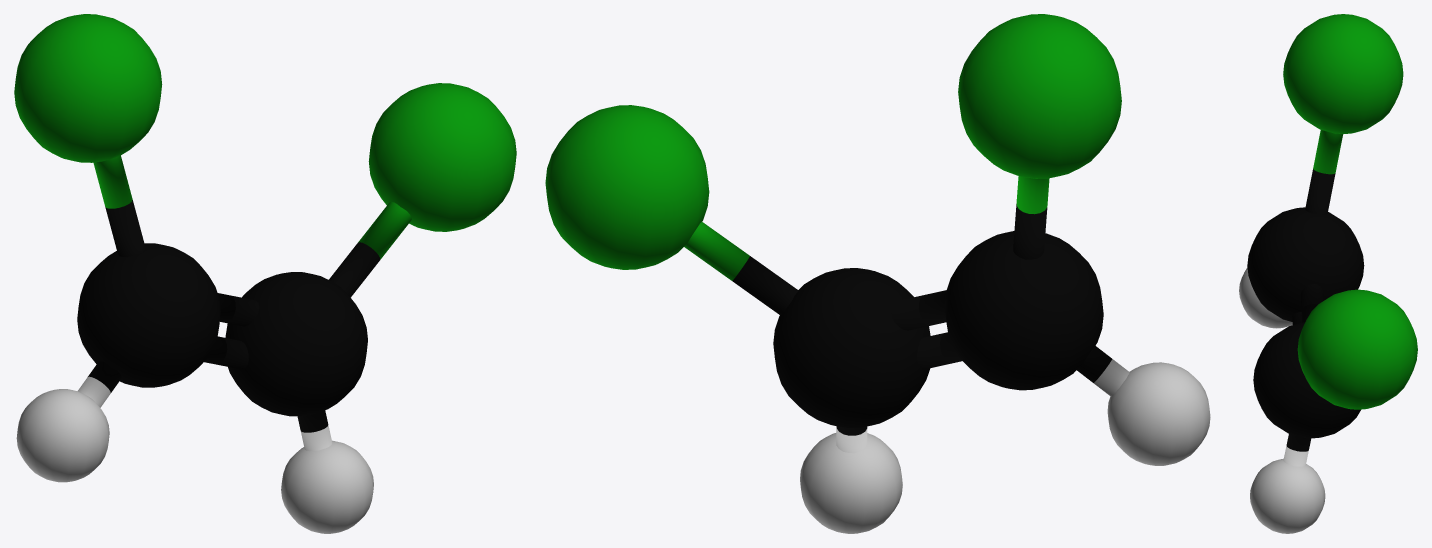
The model's file is asset.glb.
3 renders of one model, left to right at view 1: azimuth 30°, elevation 25°; view 2: azimuth 150°, elevation 25°; view 3: azimuth 270°, elevation 25°, orthographic. The views are drawn at different scales.
Parts seen in each view (by area): view 1: Shape_Sphere, Shape_Sphere.001, Shape_Sphere.002, Shape_Sphere.003, Shape_Sphere.004, Shape_Sphere.005, Shape_Cylinder.002, Shape_Cylinder.001, Shape_Cylinder.003, Shape_Cylinder, Shape_Cylinder.006, Shape_Cylinder.007; view 2: Shape_Sphere, Shape_Sphere.001, Shape_Sphere.002, Shape_Sphere.003, Shape_Sphere.004, Shape_Sphere.005, Shape_Cylinder.002, Shape_Cylinder.003, Shape_Cylinder.001, Shape_Cylinder, Shape_Cylinder.007, Shape_Cylinder.006 (+1 smaller); view 3: Shape_Sphere, Shape_Sphere.001, Shape_Sphere.002, Shape_Sphere.003, Shape_Sphere.005, Shape_Sphere.004, Shape_Cylinder.001, Shape_Cylinder, Shape_Cylinder.005, Shape_Cylinder.011, Shape_Cylinder.010.
Boxes of the visible parts, x1,y1,x2,y2 form: Shape_Sphere: (14,14,162,162); Shape_Sphere.001: (368,83,516,231); Shape_Sphere.002: (77,243,220,387); Shape_Sphere.003: (225,272,367,416); Shape_Sphere.004: (16,389,109,482); Shape_Sphere.005: (281,440,373,533); Shape_Cylinder.002: (358,202,411,259); Shape_Cylinder.001: (105,200,145,257); Shape_Cylinder.003: (329,242,380,297); Shape_Cylinder: (93,155,132,208); Shape_Cylinder.006: (218,337,248,369); Shape_Cylinder.007: (226,296,259,326); Shape_Sphere: (958,14,1121,178); Shape_Sphere.001: (545,105,709,269); Shape_Sphere.002: (944,231,1103,390); Shape_Sphere.003: (773,268,930,427); Shape_Sphere.004: (1107,362,1210,465); Shape_Sphere.005: (800,433,902,533); Shape_Cylinder.002: (684,222,749,280); Shape_Cylinder.003: (732,256,798,315); Shape_Cylinder.001: (1013,204,1047,259); Shape_Cylinder: (1016,176,1049,214); Shape_Cylinder.007: (890,295,929,330); Shape_Cylinder.006: (917,332,951,369); Shape_Sphere: (1283,14,1403,134); Shape_Sphere.001: (1297,289,1417,409); Shape_Sphere.002: (1247,207,1364,321); Shape_Sphere.003: (1253,322,1360,438); Shape_Sphere.005: (1250,458,1325,533); Shape_Sphere.004: (1239,267,1292,328); Shape_Cylinder.001: (1305,169,1335,214); Shape_Cylinder: (1313,130,1342,174); Shape_Cylinder.005: (1300,284,1323,310); Shape_Cylinder.011: (1283,446,1308,466); Shape_Cylinder.010: (1286,434,1311,451).
Bounding box in the file's own units: 4.35 × 4.14 × 1.56.
